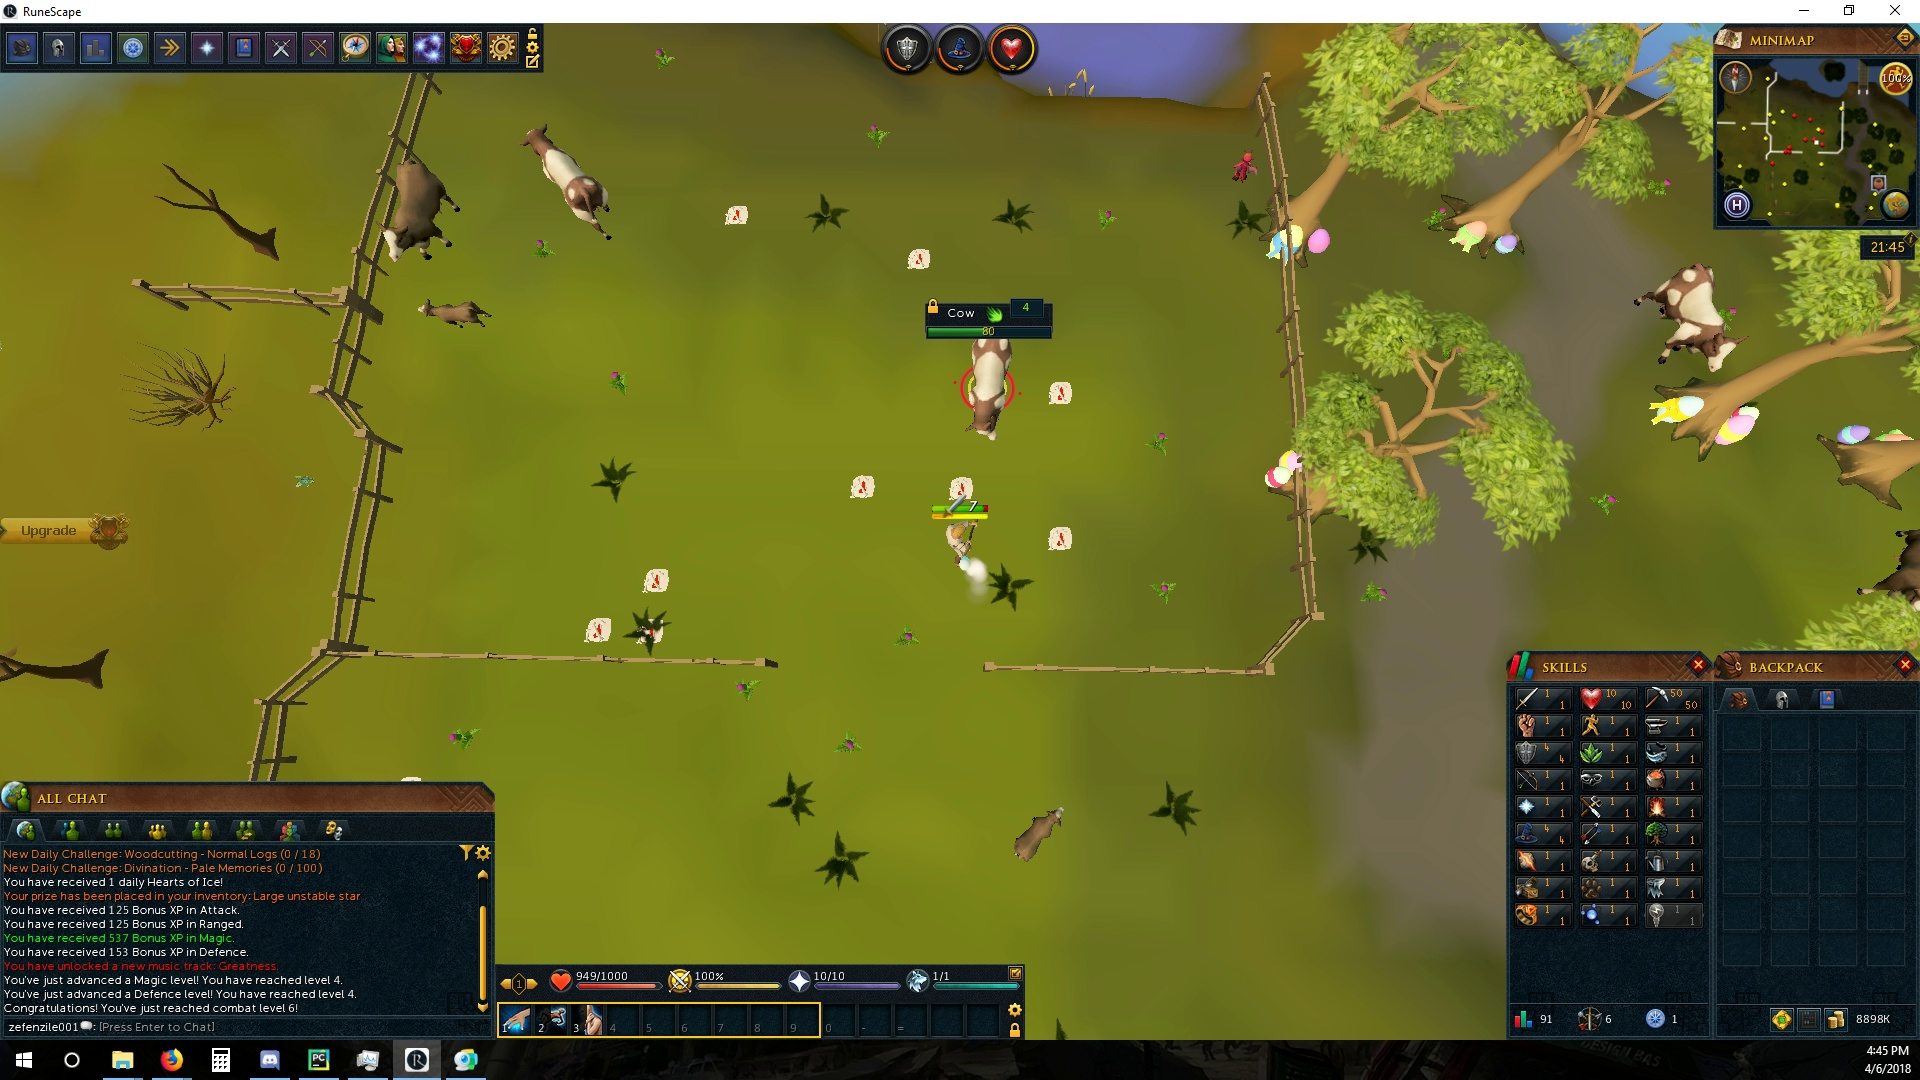calf: (1011, 804, 1065, 861), (415, 298, 495, 331)
cow: (1633, 261, 1749, 378), (520, 123, 616, 243), (376, 153, 463, 262), (960, 338, 1015, 444)
cow_drop: (843, 471, 880, 500), (640, 564, 671, 597), (723, 196, 752, 229), (1043, 524, 1073, 554), (1042, 378, 1073, 407), (902, 243, 932, 270), (580, 618, 612, 644), (947, 473, 975, 500)
